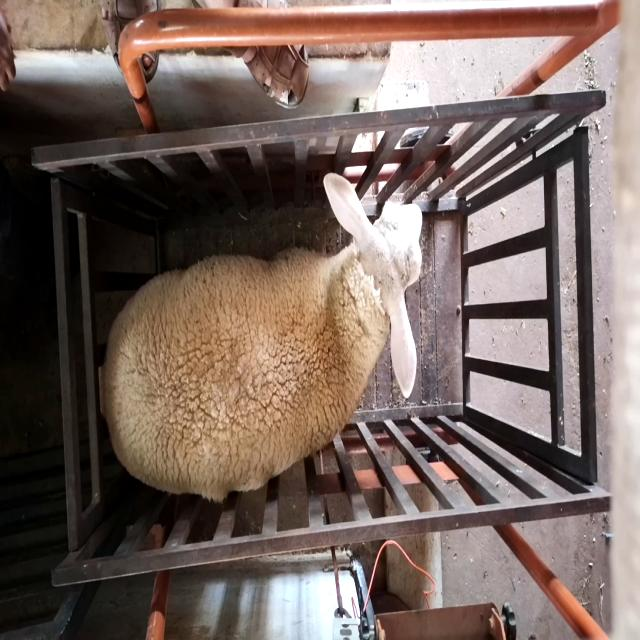sheep: (99, 173, 423, 503)
